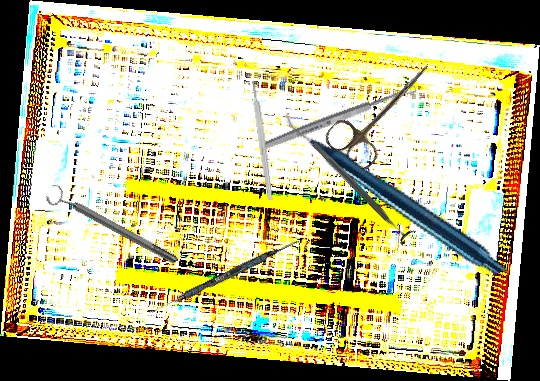Fixation Ring: (305, 135, 418, 247), (43, 181, 182, 272)
Handpiece: (283, 61, 508, 323)
Iris Scissors: (321, 45, 446, 176)
Scalpel Handle: (250, 80, 274, 201)
Spatula Surgical: (146, 236, 299, 319)
Surgical Spoon: (259, 82, 418, 153)
